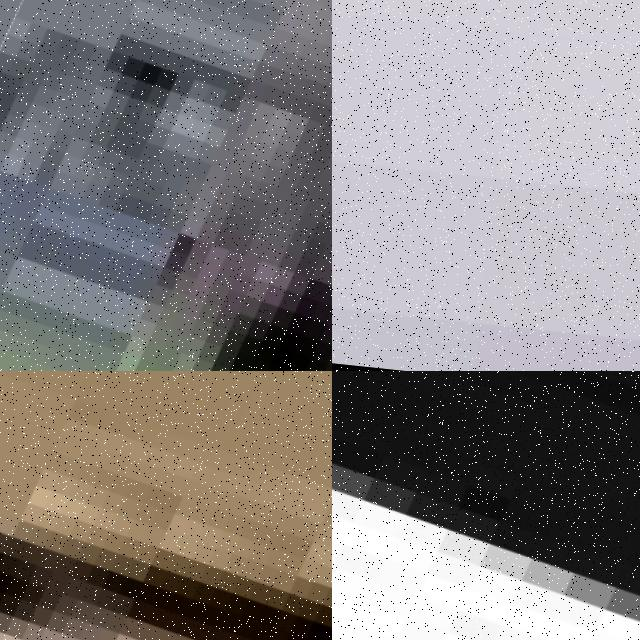drone: (0, 0, 332, 371), (0, 371, 332, 640), (332, 371, 640, 640)
